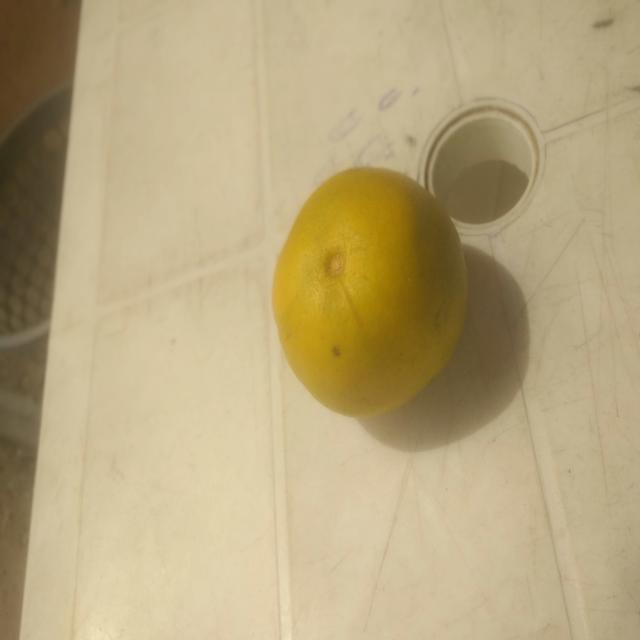Ripe orange: (270, 166, 470, 425)
